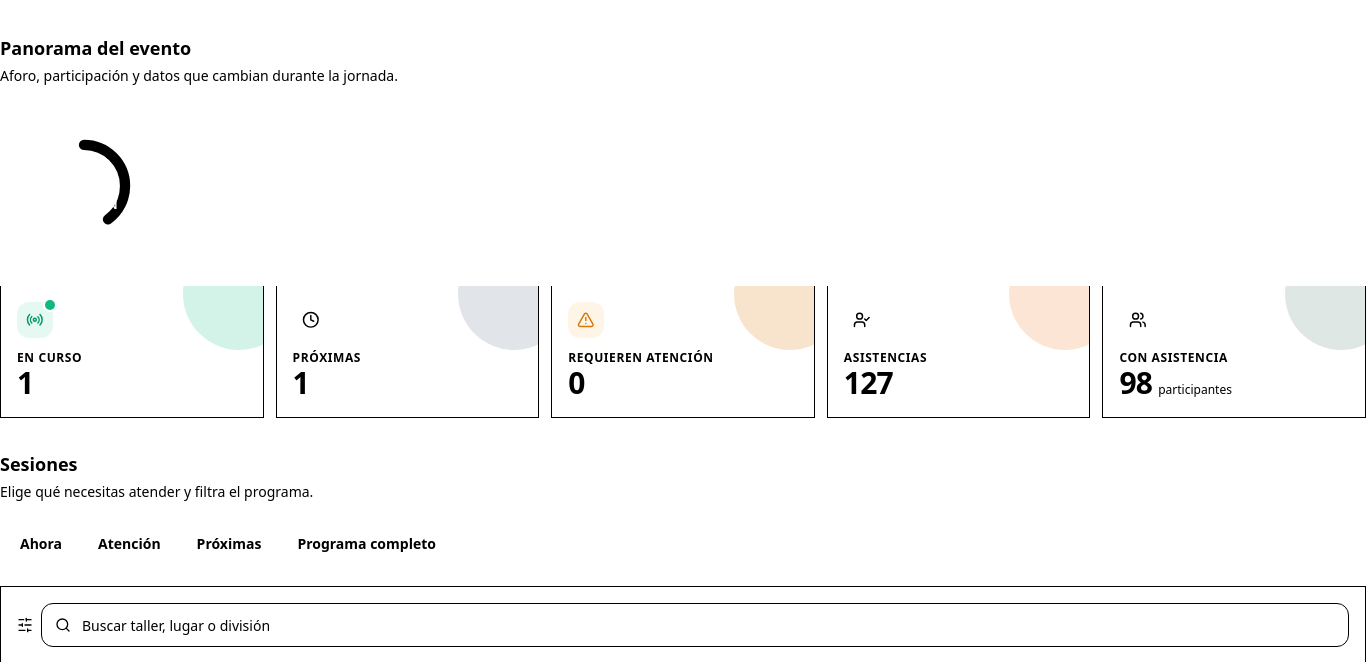
each temporal state is shown: in progress, upcoming, finished and cancelled
Click the tab "Programa completo" at (367, 544), box [281,522,452,566]
(page scrolled)
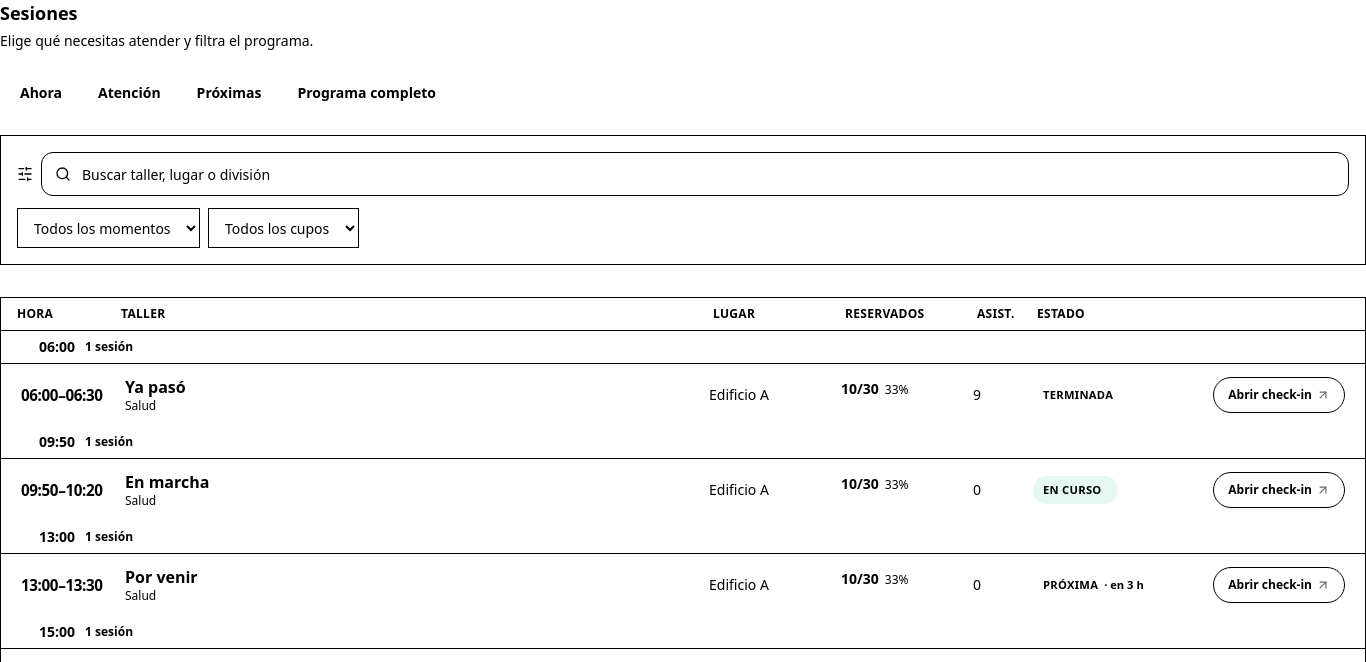
Expected: the text "En curso" is shown, [1033,476,1118,504]
Expected: the text "Terminada" is shown, [1043,387,1113,402]
Expected: the text "9" is shown, [973,385,981,404]
